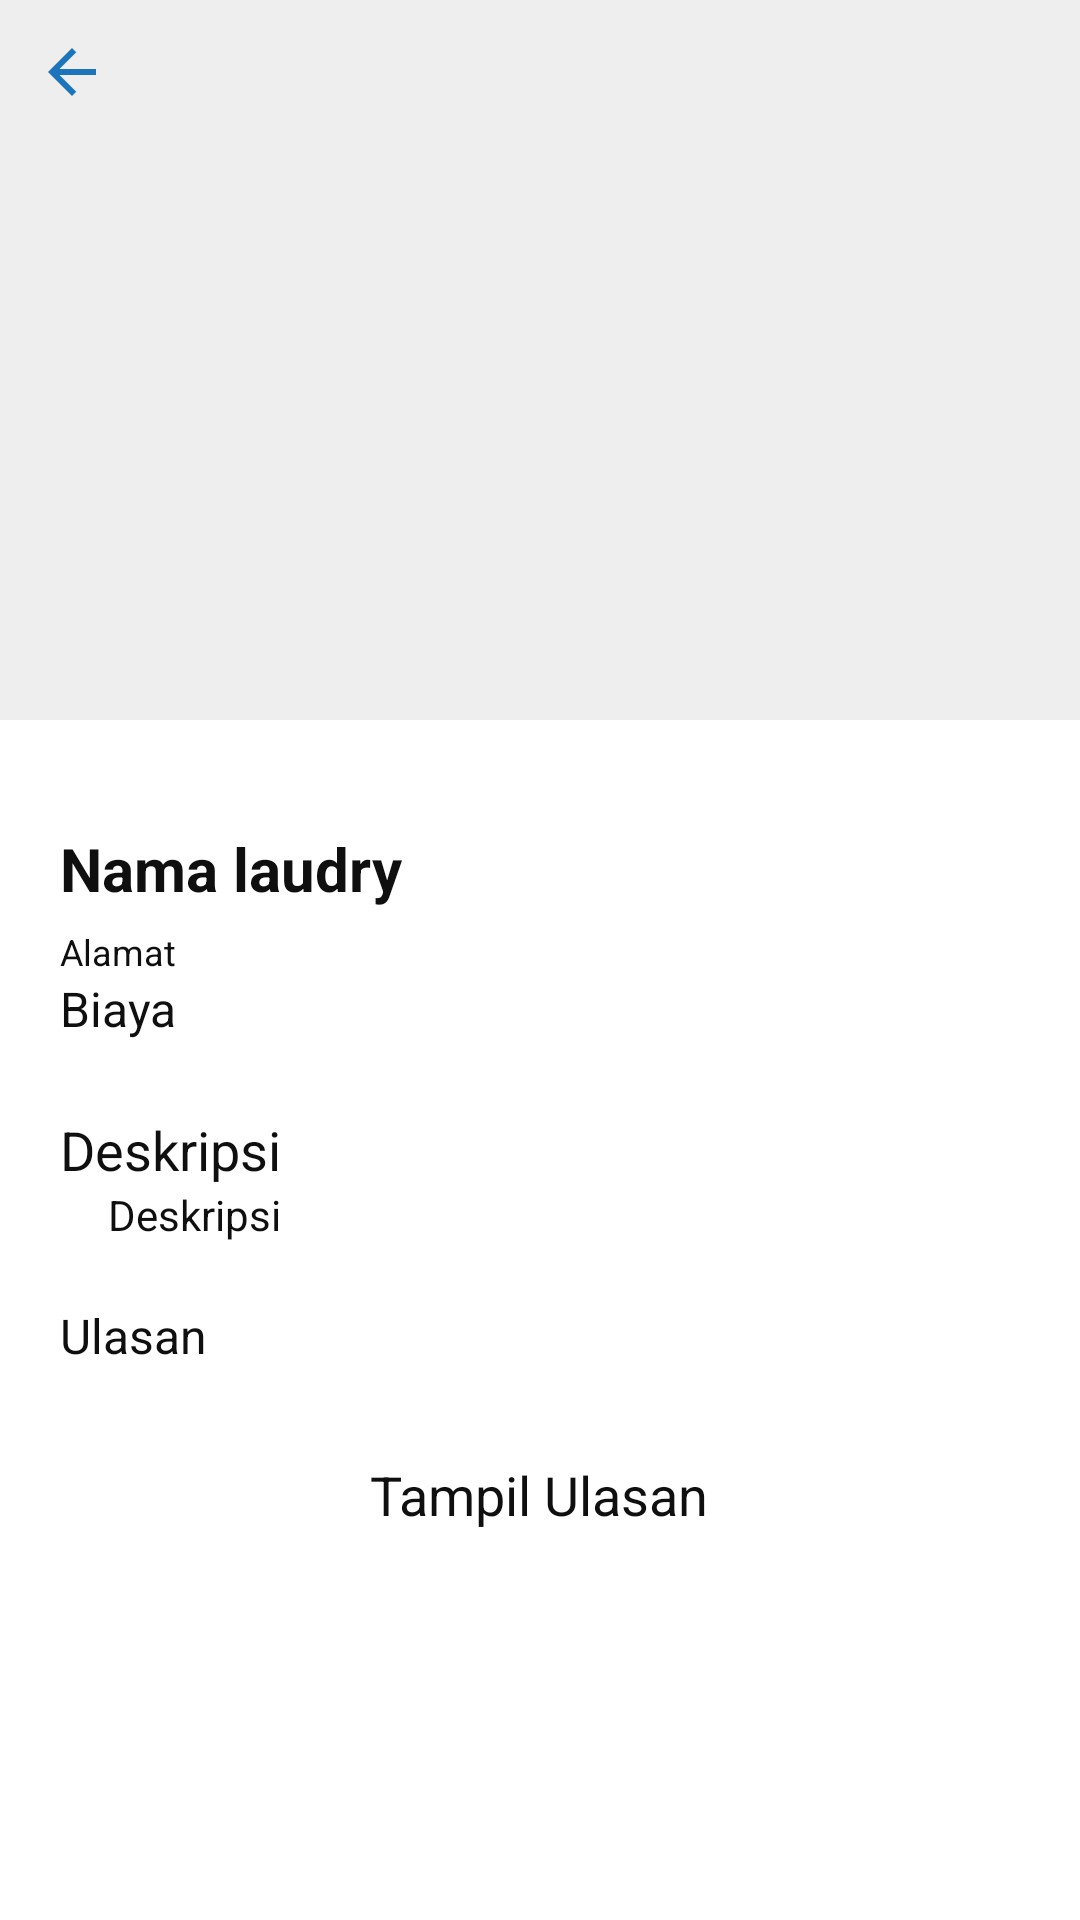

Icons on this 1080 x 1920 Android screen, each with its box as [x1,y1,x2,y2]:
arrow back: [48,48,96,96]
